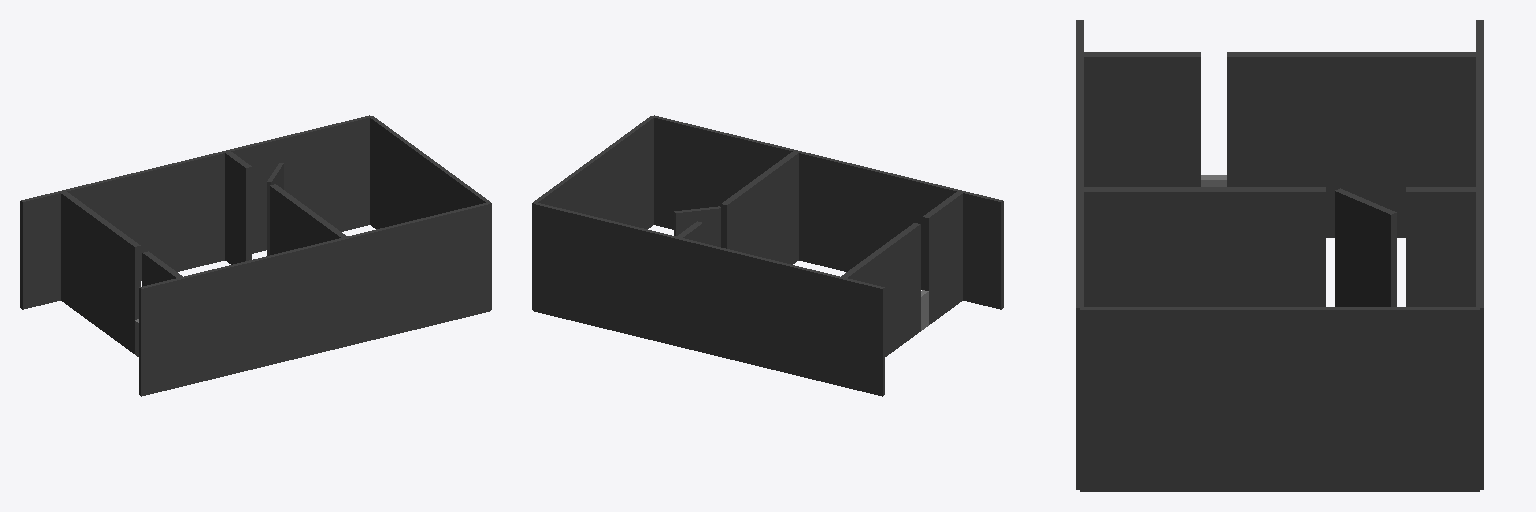
URDF robot description (realistic_room):
<?xml version='1.0' encoding='utf-8'?>
<robot name="realistic_room">
  <link name="base_link" />
  <link name="roof">
    <inertial>
      <origin xyz="5.75 0.0 2" rpy="0 0 0" />
      <mass value="999999999999999999999999999.0" />
      <inertia ixx="0.01" ixy="0" ixz="0" iyy="0.01" iyz="0" izz="0.01" />
    </inertial>
    <collision>
      <origin xyz="5.75 0.0 2" rpy="0 0 0" />
      <geometry>
        <box size="8.5 5.0 0.1" />
      </geometry>
    </collision>
  </link>
  <joint name="joint_1_roof" type="fixed">
    <parent link="base_link" />
    <child link="roof" />
    <origin xyz="0 0 0" rpy="0 0 0" />
  </joint>
  <link name="left_wall">
    <inertial>
      <origin xyz="5.75 2.5 0.75" rpy="0 0 0" />
      <mass value="999999999999999999999999999.0" />
      <inertia ixx="0.01" ixy="0" ixz="0" iyy="0.01" iyz="0" izz="0.01" />
    </inertial>
    <visual>
      <origin xyz="5.75 2.5 0.75" rpy="0 0 0" />
      <geometry>
        <box size="8.5 0.1 2.5" />
      </geometry>
      <material name="left_wall_color">
        <color rgba="0.3 0.3 0.3 1" />
      </material>
    </visual>
    <collision>
      <origin xyz="5.75 2.5 0.75" rpy="0 0 0" />
      <geometry>
        <box size="8.5 0.1 2.5" />
      </geometry>
    </collision>
  </link>
  <joint name="joint_2_left_wall" type="fixed">
    <parent link="base_link" />
    <child link="left_wall" />
    <origin xyz="0 0 0" rpy="0 0 0" />
  </joint>
  <link name="right_wall">
    <inertial>
      <origin xyz="5.75 -2.5 0.75" rpy="0 0 0" />
      <mass value="999999999999999999999999999.0" />
      <inertia ixx="0.01" ixy="0" ixz="0" iyy="0.01" iyz="0" izz="0.01" />
    </inertial>
    <visual>
      <origin xyz="5.75 -2.5 0.75" rpy="0 0 0" />
      <geometry>
        <box size="8.5 0.1 2.5" />
      </geometry>
      <material name="right_wall_color">
        <color rgba="0.3 0.3 0.3 1" />
      </material>
    </visual>
    <collision>
      <origin xyz="5.75 -2.5 0.75" rpy="0 0 0" />
      <geometry>
        <box size="8.5 0.1 2.5" />
      </geometry>
    </collision>
  </link>
  <joint name="joint_3_right_wall" type="fixed">
    <parent link="base_link" />
    <child link="right_wall" />
    <origin xyz="0 0 0" rpy="0 0 0" />
  </joint>
  <link name="front_wall">
    <inertial>
      <origin xyz="10.0 0.0 0.75" rpy="0 0 0" />
      <mass value="999999999999999999999999999.0" />
      <inertia ixx="0.01" ixy="0" ixz="0" iyy="0.01" iyz="0" izz="0.01" />
    </inertial>
    <visual>
      <origin xyz="10.0 0.0 0.75" rpy="0 0 0" />
      <geometry>
        <box size="0.1 5 2.5" />
      </geometry>
      <material name="front_wall_color">
        <color rgba="0.3 0.3 0.3 1" />
      </material>
    </visual>
    <collision>
      <origin xyz="10.0 0.0 0.75" rpy="0 0 0" />
      <geometry>
        <box size="0.1 5 2.5" />
      </geometry>
    </collision>
  </link>
  <joint name="joint_4_front_wall" type="fixed">
    <parent link="base_link" />
    <child link="front_wall" />
    <origin xyz="0 0 0" rpy="0 0 0" />
  </joint>
  <link name="wall1_left">
    <inertial>
      <origin xyz="2.5 0.9192 0.75" rpy="0 0 0" />
      <mass value="999999999999999999999999999.0" />
      <inertia ixx="0.01" ixy="0" ixz="0" iyy="0.01" iyz="0" izz="0.01" />
    </inertial>
    <visual>
      <origin xyz="2.5 0.9192 0.75" rpy="0 0 0" />
      <geometry>
        <box size="0.15 3.1617 2.5" />
      </geometry>
      <material name="wall1_left_color">
        <color rgba="0.3 0.3 0.3 1" />
      </material>
    </visual>
    <collision>
      <origin xyz="2.5 0.9192 0.75" rpy="0 0 0" />
      <geometry>
        <box size="0.15 3.1617 2.5" />
      </geometry>
    </collision>
  </link>
  <joint name="joint_5_wall1_left" type="fixed">
    <parent link="base_link" />
    <child link="wall1_left" />
    <origin xyz="0 0 0" rpy="0 0 0" />
  </joint>
  <link name="wall1_right">
    <inertial>
      <origin xyz="2.5 -1.7458 0.75" rpy="0 0 0" />
      <mass value="999999999999999999999999999.0" />
      <inertia ixx="0.01" ixy="0" ixz="0" iyy="0.01" iyz="0" izz="0.01" />
    </inertial>
    <visual>
      <origin xyz="2.5 -1.7458 0.75" rpy="0 0 0" />
      <geometry>
        <box size="0.15 1.5083 2.5" />
      </geometry>
      <material name="wall1_right_color">
        <color rgba="0.3 0.3 0.3 1" />
      </material>
    </visual>
    <collision>
      <origin xyz="2.5 -1.7458 0.75" rpy="0 0 0" />
      <geometry>
        <box size="0.15 1.5083 2.5" />
      </geometry>
    </collision>
  </link>
  <joint name="joint_6_wall1_right" type="fixed">
    <parent link="base_link" />
    <child link="wall1_right" />
    <origin xyz="0 0 0" rpy="0 0 0" />
  </joint>
  <link name="wall1_bottom">
    <inertial>
      <origin xyz="2.5 -0.8267 -0.1" rpy="0 0 0" />
      <mass value="999999999999999999999999999.0" />
      <inertia ixx="0.01" ixy="0" ixz="0" iyy="0.01" iyz="0" izz="0.01" />
    </inertial>
    <visual>
      <origin xyz="2.5 -0.8267 -0.1" rpy="0 0 0" />
      <geometry>
        <box size="0.15 0.33 0.8" />
      </geometry>
      <material name="wall1_bottom_color">
        <color rgba="0.5 0.5 0.5 1" />
      </material>
    </visual>
    <collision>
      <origin xyz="2.5 -0.8267 -0.1" rpy="0 0 0" />
      <geometry>
        <box size="0.15 0.33 0.8" />
      </geometry>
    </collision>
  </link>
  <joint name="joint_7_wall1_bottom" type="fixed">
    <parent link="base_link" />
    <child link="wall1_bottom" />
    <origin xyz="0 0 0" rpy="0 0 0" />
  </joint>
  <link name="wall2_left">
    <inertial>
      <origin xyz="6.5 2.0353 0.75" rpy="0 0 0" />
      <mass value="999999999999999999999999999.0" />
      <inertia ixx="0.01" ixy="0" ixz="0" iyy="0.01" iyz="0" izz="0.01" />
    </inertial>
    <visual>
      <origin xyz="6.5 2.0353 0.75" rpy="0 0 0" />
      <geometry>
        <box size="0.15 0.9294 2.5" />
      </geometry>
      <material name="wall2_left_color">
        <color rgba="0.3 0.3 0.3 1" />
      </material>
    </visual>
    <collision>
      <origin xyz="6.5 2.0353 0.75" rpy="0 0 0" />
      <geometry>
        <box size="0.15 0.9294 2.5" />
      </geometry>
    </collision>
  </link>
  <joint name="joint_8_wall2_left" type="fixed">
    <parent link="base_link" />
    <child link="wall2_left" />
    <origin xyz="0 0 0" rpy="0 0 0" />
  </joint>
  <link name="wall2_right">
    <inertial>
      <origin xyz="6.5 -0.9647 0.75" rpy="0 0 0" />
      <mass value="999999999999999999999999999.0" />
      <inertia ixx="0.01" ixy="0" ixz="0" iyy="0.01" iyz="0" izz="0.01" />
    </inertial>
    <visual>
      <origin xyz="6.5 -0.9647 0.75" rpy="0 0 0" />
      <geometry>
        <box size="0.15 3.0706 2.5" />
      </geometry>
      <material name="wall2_right_color">
        <color rgba="0.3 0.3 0.3 1" />
      </material>
    </visual>
    <collision>
      <origin xyz="6.5 -0.9647 0.75" rpy="0 0 0" />
      <geometry>
        <box size="0.15 3.0706 2.5" />
      </geometry>
    </collision>
  </link>
  <joint name="joint_9_wall2_right" type="fixed">
    <parent link="base_link" />
    <child link="wall2_right" />
    <origin xyz="0 0 0" rpy="0 0 0" />
  </joint>
  <link name="door">
    <inertial>
      <origin xyz="6.85 1.0706 0.75" rpy="0 0 0.78" />
      <mass value="999999999999999999999999999.0" />
      <inertia ixx="0.01" ixy="0" ixz="0" iyy="0.01" iyz="0" izz="0.01" />
    </inertial>
    <visual>
      <origin xyz="6.85 1.0706 0.75" rpy="0 0 0.78" />
      <geometry>
        <box size="1.0 0.1 2.5" />
      </geometry>
      <material name="door_color">
        <color rgba="0.3 0.3 0.3 1" />
      </material>
    </visual>
    <collision>
      <origin xyz="6.85 1.0706 0.75" rpy="0 0 0.78" />
      <geometry>
        <box size="1.0 0.1 2.5" />
      </geometry>
    </collision>
  </link>
  <joint name="joint_10_door" type="fixed">
    <parent link="base_link" />
    <child link="door" />
    <origin xyz="0 0 0" rpy="0 0 0" />
  </joint>
</robot>

--- What the picture shows (computed from the rendered views, not written in the file) ---
Views: 3 orthographic renders of the robot side by side, from view 1: azimuth 30°, elevation 25°; view 2: azimuth 150°, elevation 25°; view 3: azimuth 270°, elevation 25°.
Model realistic_room with 11 links and 10 joints (10 fixed), rooted at base_link, posed all joints at 0.
Links seen in each view (by area): view 1: right_wall, left_wall, wall1_left, front_wall, wall2_right, wall2_left, wall1_right; view 2: left_wall, right_wall, front_wall, wall2_right, wall1_left, wall1_right, door; view 3: front_wall, wall1_left, wall2_right, wall1_right, wall2_left, door, left_wall, right_wall.
Boxes of the visible links, bbox=[...] form: right_wall: bbox=[139, 202, 490, 396]; left_wall: bbox=[20, 115, 369, 309]; wall1_left: bbox=[60, 192, 140, 353]; front_wall: bbox=[370, 116, 491, 309]; wall2_right: bbox=[270, 184, 347, 254]; wall2_left: bbox=[225, 151, 251, 264]; wall1_right: bbox=[142, 251, 182, 286]; left_wall: bbox=[533, 202, 884, 396]; right_wall: bbox=[654, 115, 1003, 309]; front_wall: bbox=[532, 116, 653, 309]; wall2_right: bbox=[721, 151, 798, 264]; wall1_left: bbox=[840, 223, 920, 356]; wall1_right: bbox=[922, 191, 963, 324]; door: bbox=[674, 206, 720, 246]; front_wall: bbox=[1080, 307, 1479, 491]; wall1_left: bbox=[1227, 52, 1476, 237]; wall2_right: bbox=[1081, 187, 1325, 306]; wall1_right: bbox=[1081, 52, 1200, 186]; wall2_left: bbox=[1406, 187, 1475, 306]; door: bbox=[1335, 188, 1396, 306]; left_wall: bbox=[1476, 20, 1483, 489]; right_wall: bbox=[1076, 20, 1083, 489].
Bounding box of the posed robot: 8.55 × 5.1 × 2.5 m (x, y, z).
Geometry: primitives only (box / cylinder / sphere), no mesh files.
